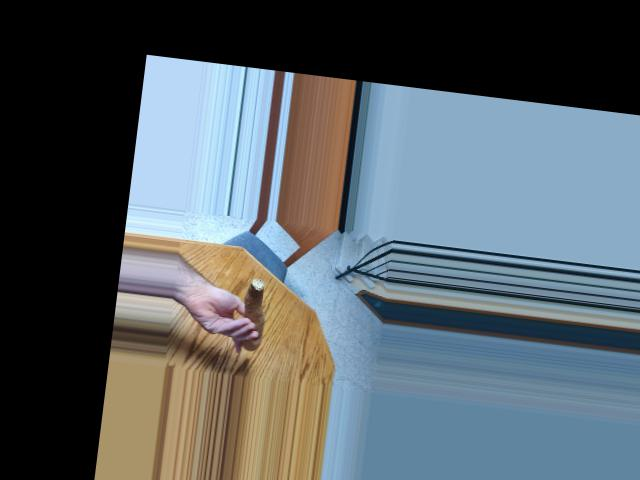sweet_potato: (241, 286, 275, 347)
